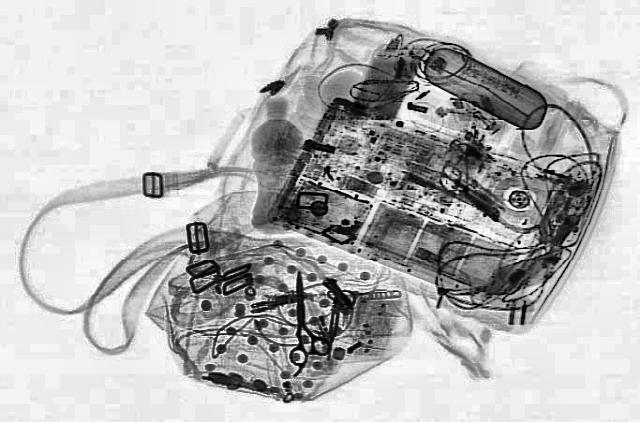Scissors: (276, 270, 334, 364)
